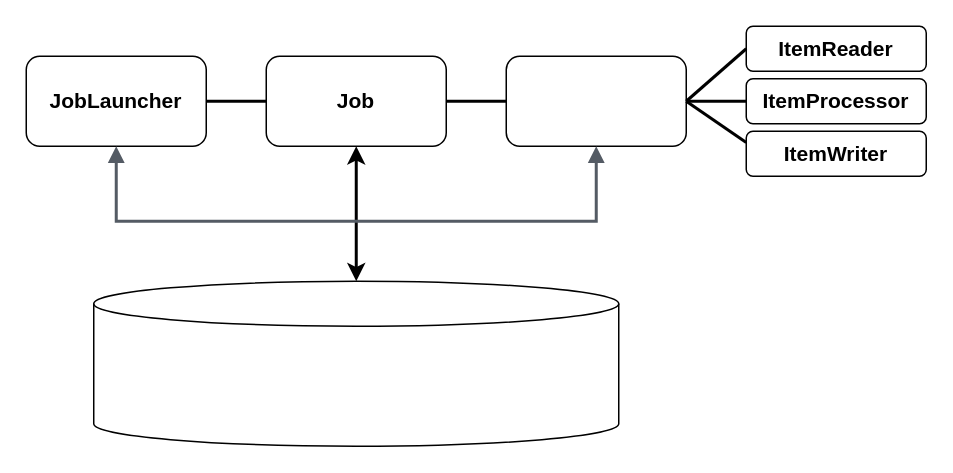
The diagram is 953 pixels wide and 473 high, and some of its shapes have lost their labels. Each missing label, with the centre of its shape:
Job Repository: the point at 355,363
Step: the point at 595,100
